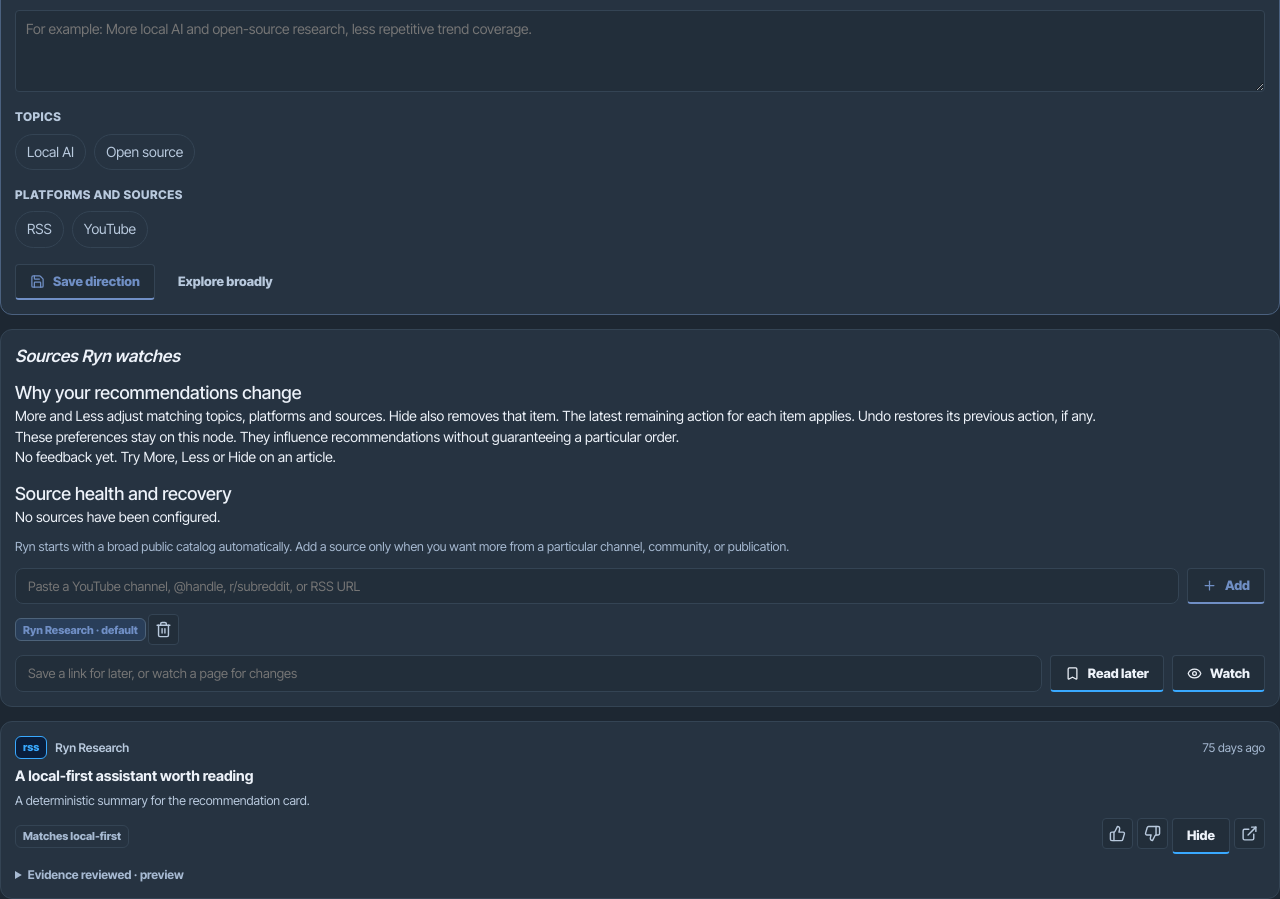
Test: DigestViewer formats › opens an article using content returned by the mocked local node
The image size is (1280, 899).
(page scrolled)
Step 1. Click the button "A local-first assistant worth reading" → (134, 776), box [15,765,1265,786]
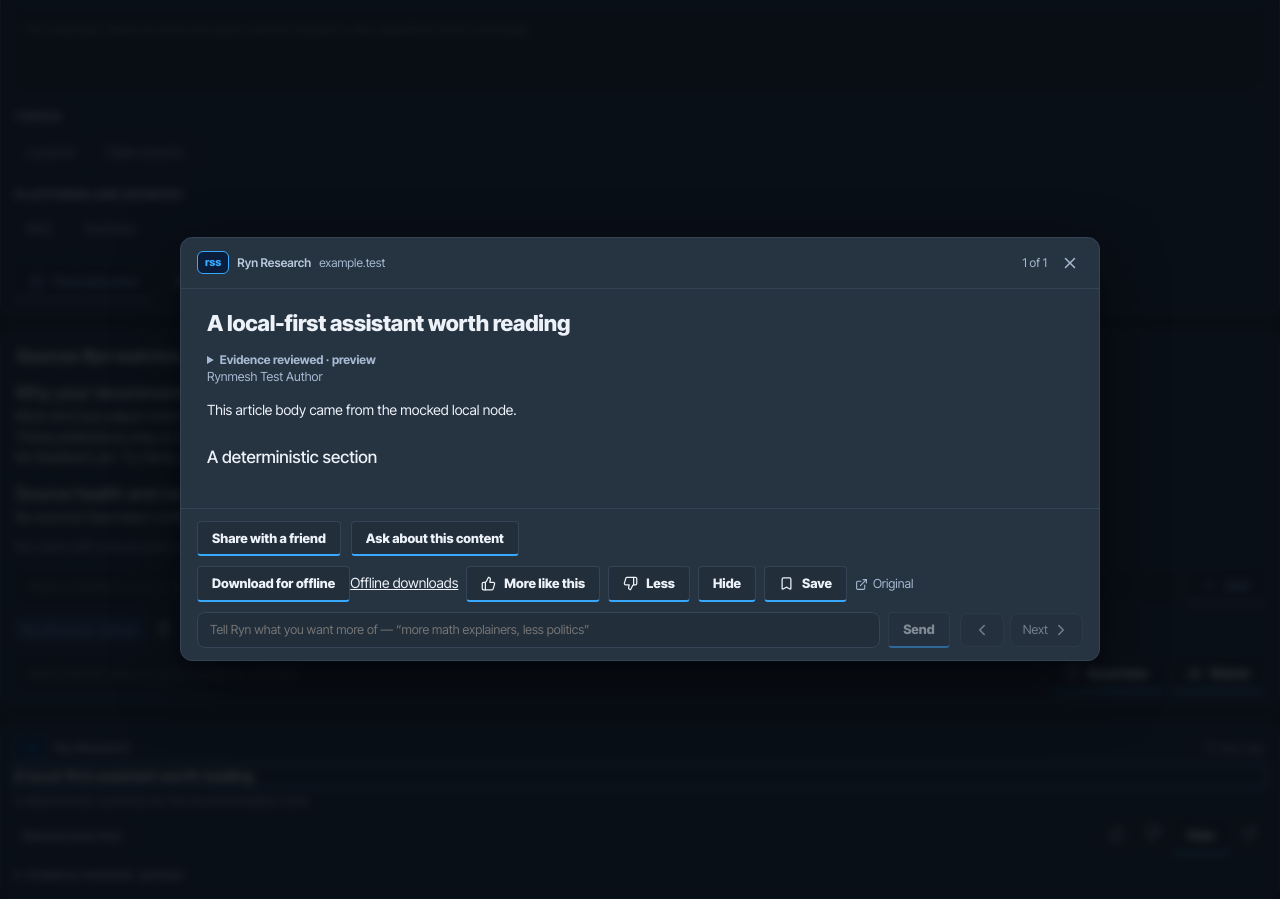
Expected: the dialog "A local-first assistant worth reading" is shown, [180,237,1100,661]
Expected: the text "This article body came from the mocked local node." is shown, [207,401,517,418]
Expected: the text "Rynmesh Test Author" is shown, [207,369,322,384]
